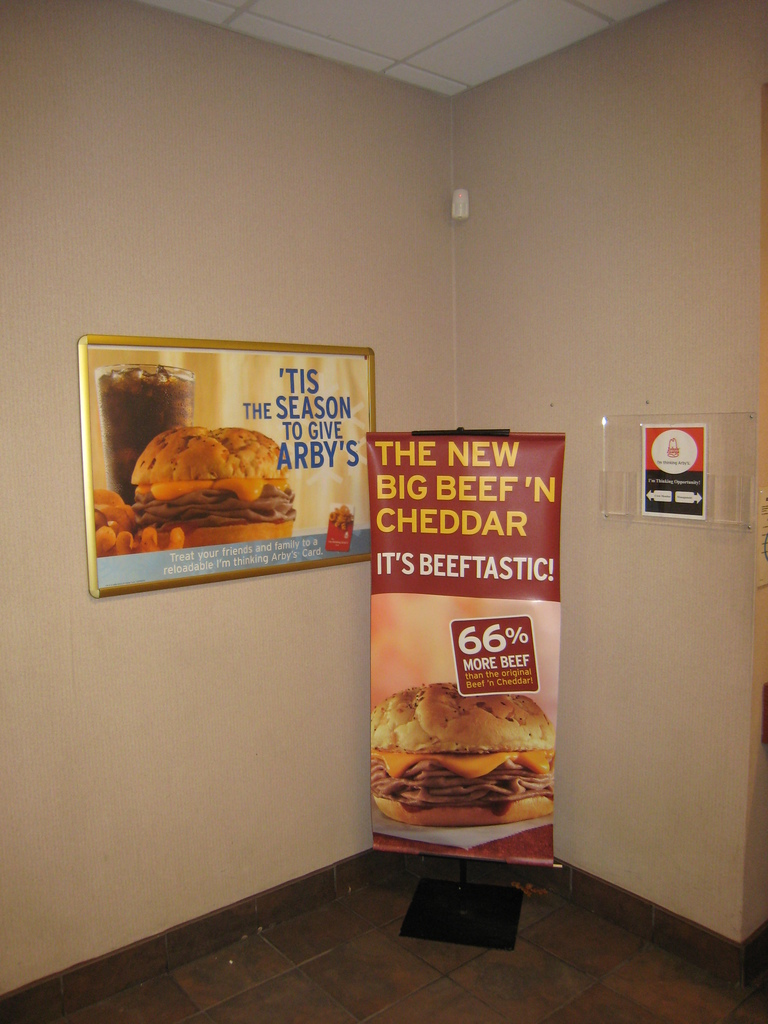Hamburger: (369, 680, 554, 826), (128, 425, 295, 547)
